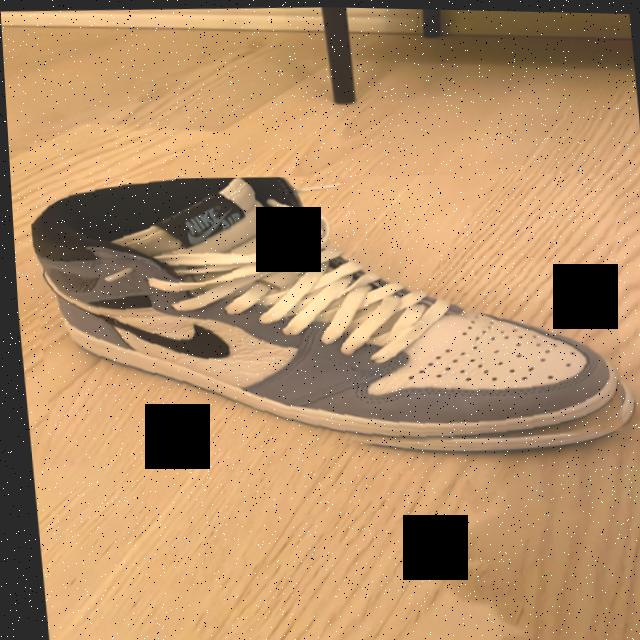shoe: (24, 159, 637, 470)
